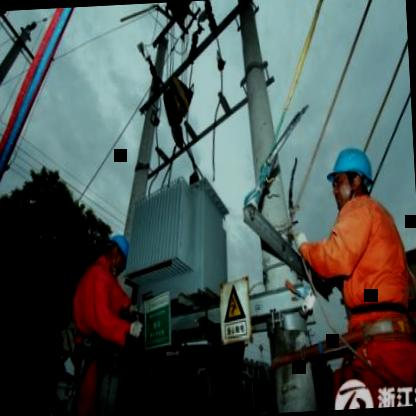helmet: (322, 140, 378, 214), (104, 228, 133, 276)
